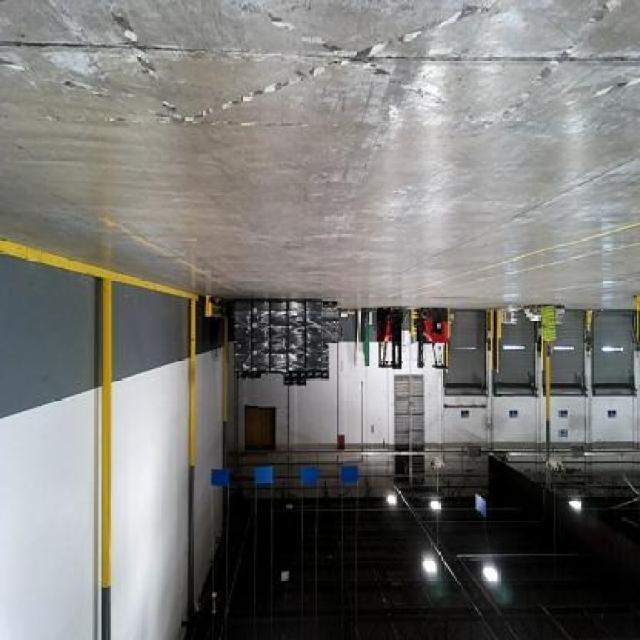forklift: (417, 302, 450, 371), (375, 303, 403, 369)
